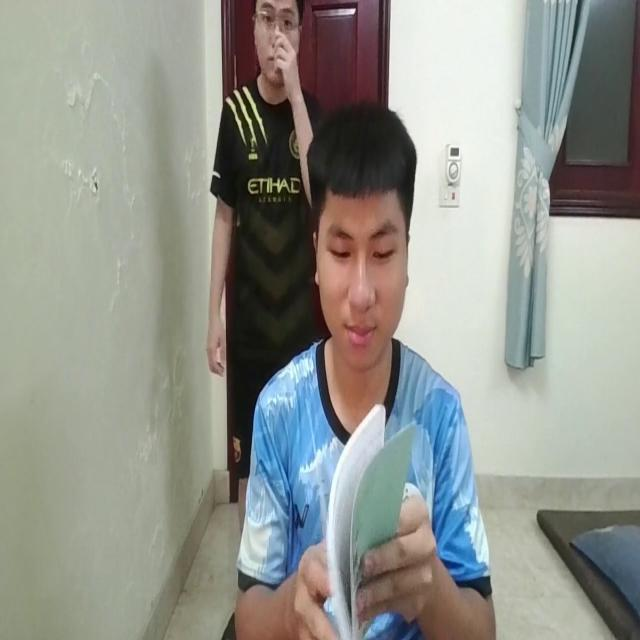book: (308, 404, 416, 637)
extra_person: (189, 4, 333, 423)
student: (248, 99, 489, 640)
